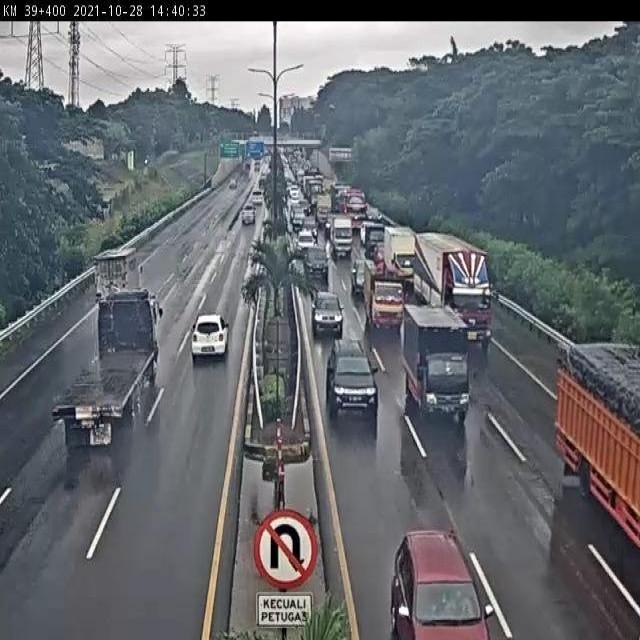big truck: (53, 293, 158, 443)
car: (325, 342, 379, 418), (190, 313, 230, 363), (311, 291, 346, 337), (349, 255, 381, 293), (302, 241, 330, 283)
small truck: (92, 247, 143, 304)
truck-l-: (414, 232, 492, 347)
truck-m-: (404, 305, 470, 419), (364, 268, 405, 332), (382, 224, 416, 292)
